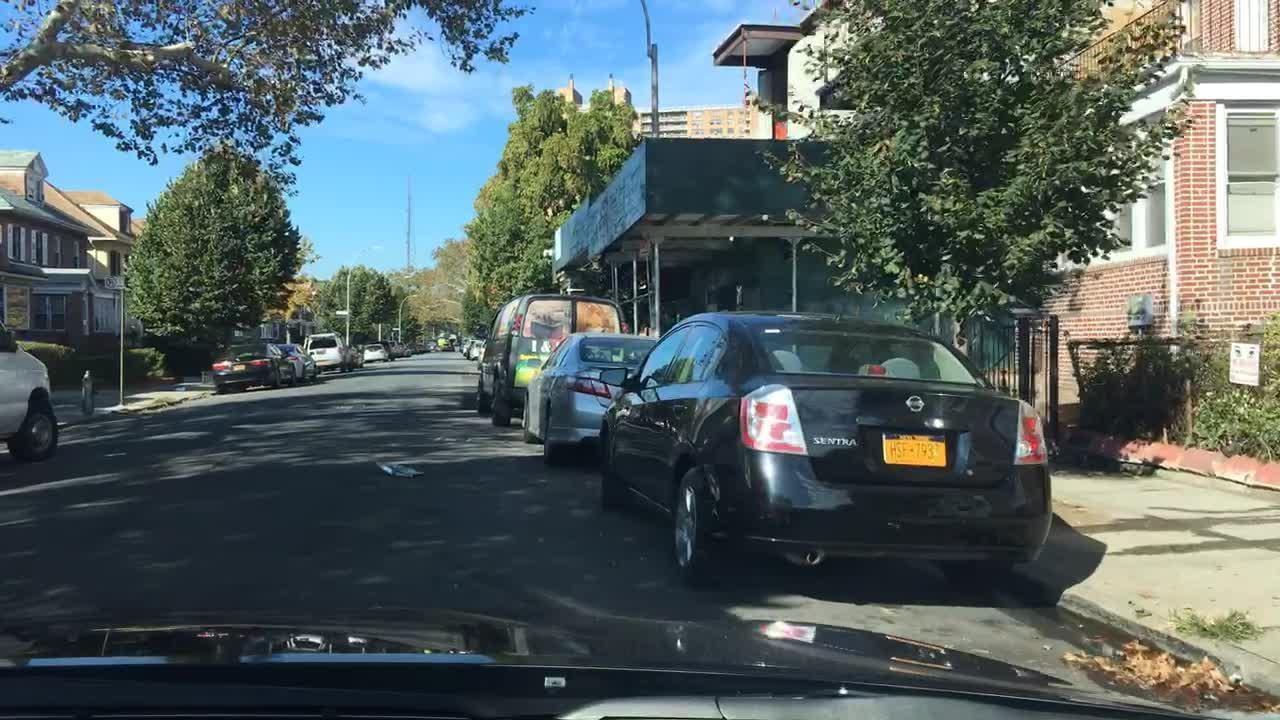Nissan: (904, 391, 926, 414)
